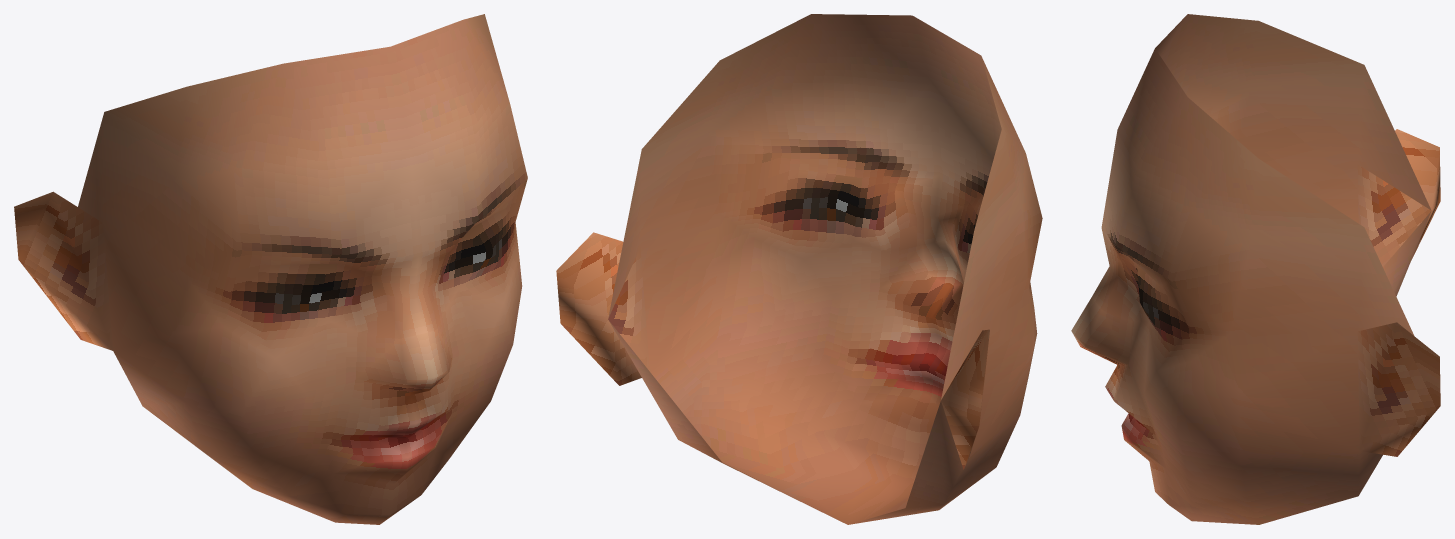
3 renders of one model, left to right at view 1: azimuth 30°, elevation 25°; view 2: azimuth 150°, elevation 25°; view 3: azimuth 270°, elevation 25°, orthographic. The views are drawn at different scales.
Parts seen in each view (by area): view 1: editpl_f-0000-1876, editpl_f-0000-1875; view 2: editpl_f-0000-1876, editpl_f-0000-1875; view 3: editpl_f-0000-1876, editpl_f-0000-1875.
Boxes of the visible parts, left/top/right/bottom form: editpl_f-0000-1876: left=14, top=14, right=527, bottom=410; editpl_f-0000-1875: left=113, top=344, right=512, bottom=524; editpl_f-0000-1876: left=556, top=14, right=1042, bottom=469; editpl_f-0000-1875: left=609, top=273, right=1019, bottom=524; editpl_f-0000-1876: left=1071, top=14, right=1440, bottom=456; editpl_f-0000-1875: left=1081, top=211, right=1431, bottom=524.
Size of the model in its own units: 19.4 by 20.15 by 14.47.
